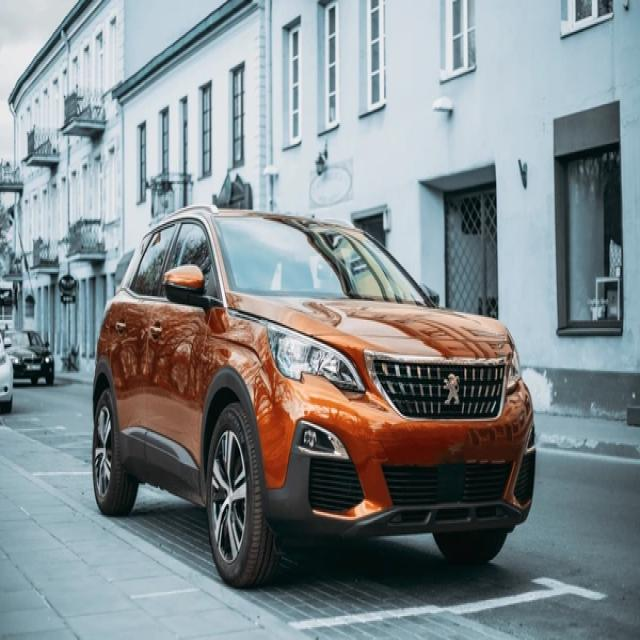pegout: (442, 369, 464, 411)
